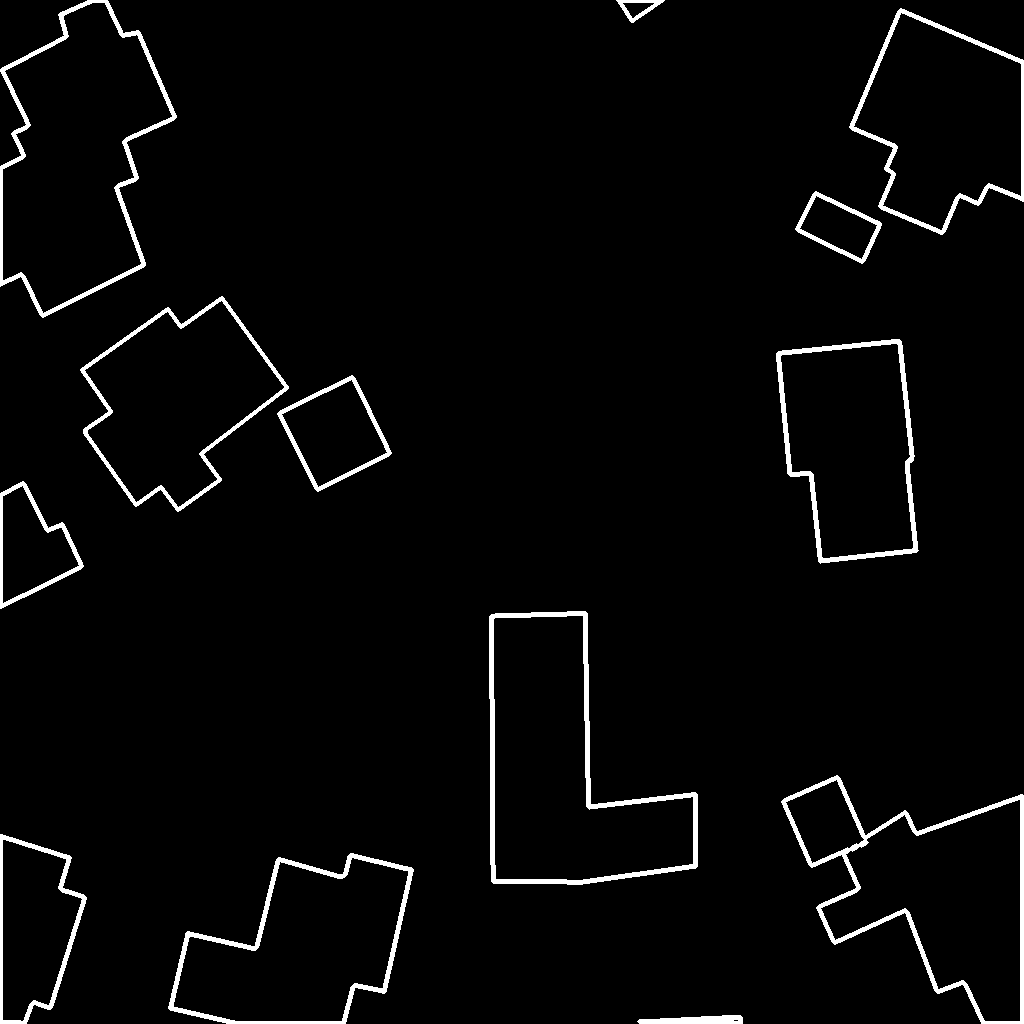building: (0, 0, 176, 317), (491, 613, 697, 883), (818, 796, 1024, 1024), (82, 298, 288, 511), (170, 855, 413, 1024), (851, 10, 1024, 234), (778, 341, 917, 562), (0, 836, 86, 1024), (279, 377, 391, 491), (0, 483, 83, 608), (783, 777, 867, 867), (797, 193, 881, 263), (618, 0, 664, 22), (629, 1017, 742, 1024)
